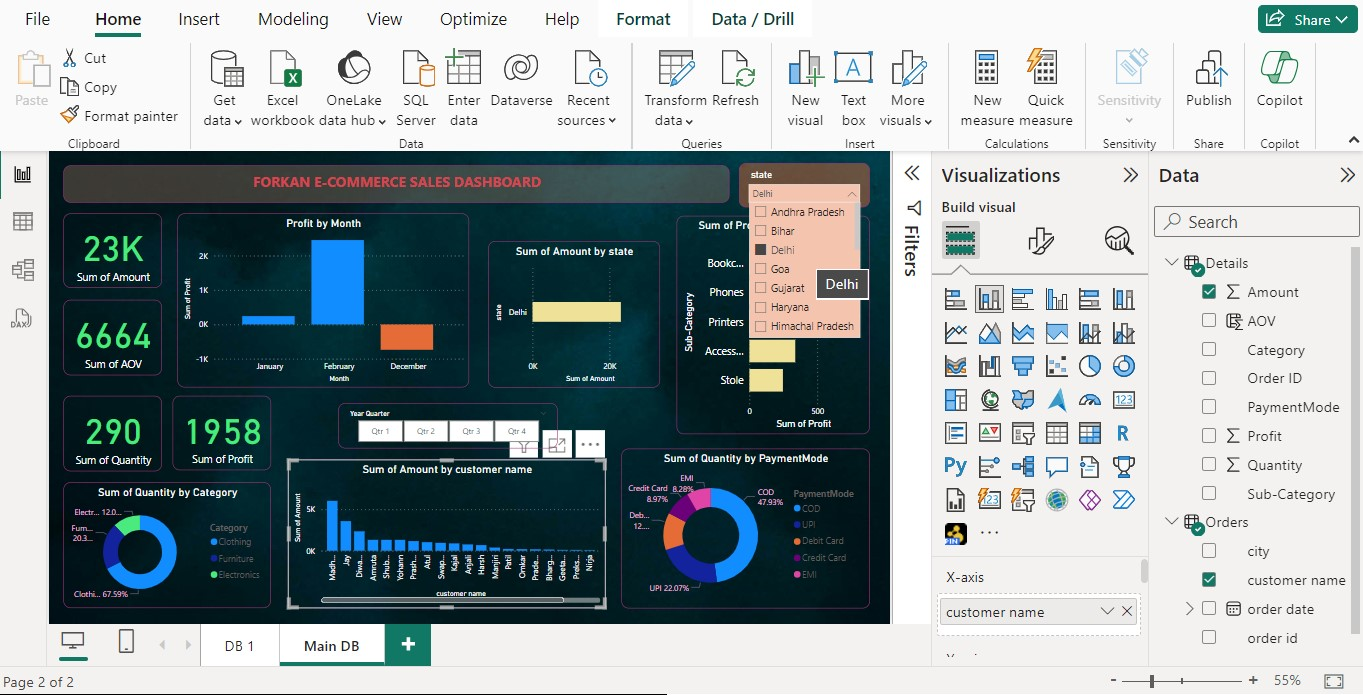

Layout of this report page (visuals, bound fields, positions):
{"tool":"powerbi","page":{"name":"Main DB","canvas":[1280,720],"ordinal":1},"visuals":[{"type":"textbox","box":[21.9,21.9,1014.1,56.6],"z":0},{"type":"columnChart","title":"Profit by Month","fields":{"Category":["Orders.order date.Variation.Date Hierarchy.Month"],"Y":["Details.Profit"]},"box":[195.5,95,444,265],"z":1000},{"type":"barChart","fields":{"Category":["Details.Sub-Category"],"Y":["Details.Profit"]},"box":[955.7,98.7,294.2,332.6],"z":2000},{"type":"donutChart","fields":{"Category":["Details.Category"],"Y":["Details.Quantity"]},"box":[21.9,504.3,316.1,191.9],"z":3000},{"type":"donutChart","fields":{"Y":["Details.Quantity"],"Category":["Details.PaymentMode"]},"box":[871.6,453.2,378.2,243],"z":4000},{"type":"card","fields":{"Values":["Details.Amount"]},"box":[21.9,95,149.8,113.3],"z":5000},{"type":"card","fields":{"Values":["Details.Quantity"]},"box":[21.9,372.8,149.8,115.1],"z":6000},{"type":"card","fields":{"Values":["Details.Profit"]},"box":[188.2,372.8,149.8,113.3],"z":7000},{"type":"card","fields":{"Values":["Details.AOV"]},"box":[21.9,226.6,149.8,115.1],"z":8000},{"type":"barChart","fields":{"Y":["Details.Amount"],"Category":["Orders.state"]},"box":[668.8,137,261.3,222.9],"z":9000},{"type":"columnChart","fields":{"Category":["Orders.customer name"],"Y":["Details.Amount"]},"box":[363.6,469.6,484.2,226.6],"z":10000},{"type":"slicer","fields":{"Values":["Orders.order date.Variation.Date Hierarchy.Quarter"]},"box":[440.4,383.7,334.4,69.4],"z":11000},{"type":"slicer","fields":{"Values":["Orders.state"]},"box":[1050.7,18.3,199.2,67.6],"z":12000}]}

Visuals, with their boxes on the page's 1280x720 design canvas (x1, y1, x2, y2). These are canvas units, not pixel positions in the 1363x695 screenshot, which may show the page scaled, cropped or inside an application window:
textbox: <region>22, 22, 1036, 78</region>
"Profit by Month" columnChart: <region>196, 95, 640, 360</region>
barChart - Details.Sub-Category x Details.Profit: <region>956, 99, 1250, 431</region>
donutChart - Details.Category x Details.Quantity: <region>22, 504, 338, 696</region>
donutChart - Details.Quantity x Details.PaymentMode: <region>872, 453, 1250, 696</region>
card - Details.Amount: <region>22, 95, 172, 208</region>
card - Details.Quantity: <region>22, 373, 172, 488</region>
card - Details.Profit: <region>188, 373, 338, 486</region>
card - Details.AOV: <region>22, 227, 172, 342</region>
barChart - Details.Amount x Orders.state: <region>669, 137, 930, 360</region>
columnChart - Orders.customer name x Details.Amount: <region>364, 470, 848, 696</region>
slicer - Orders.order date.Variation.Date Hierarchy.Quarter: <region>440, 384, 775, 453</region>
slicer - Orders.state: <region>1051, 18, 1250, 86</region>
